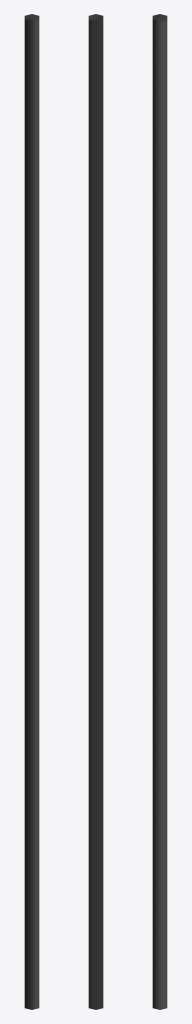
The model's file is BO_Sin1_Thread01.FBX.
3 renders of one model, left to right at view 1: azimuth 30°, elevation 25°; view 2: azimuth 150°, elevation 25°; view 3: azimuth 330°, elevation 25°, orthographic.
Parts seen in each view (by area): view 1: BO_Sin1_Thread01; view 2: BO_Sin1_Thread01; view 3: BO_Sin1_Thread01.
Boxes of the visible parts, <box> form: BO_Sin1_Thread01: <box>24,14,39,1009</box>; BO_Sin1_Thread01: <box>88,14,103,1009</box>; BO_Sin1_Thread01: <box>152,14,167,1009</box>.
Size of the model in its own units: 1.47 by 95.24 by 1.27.
